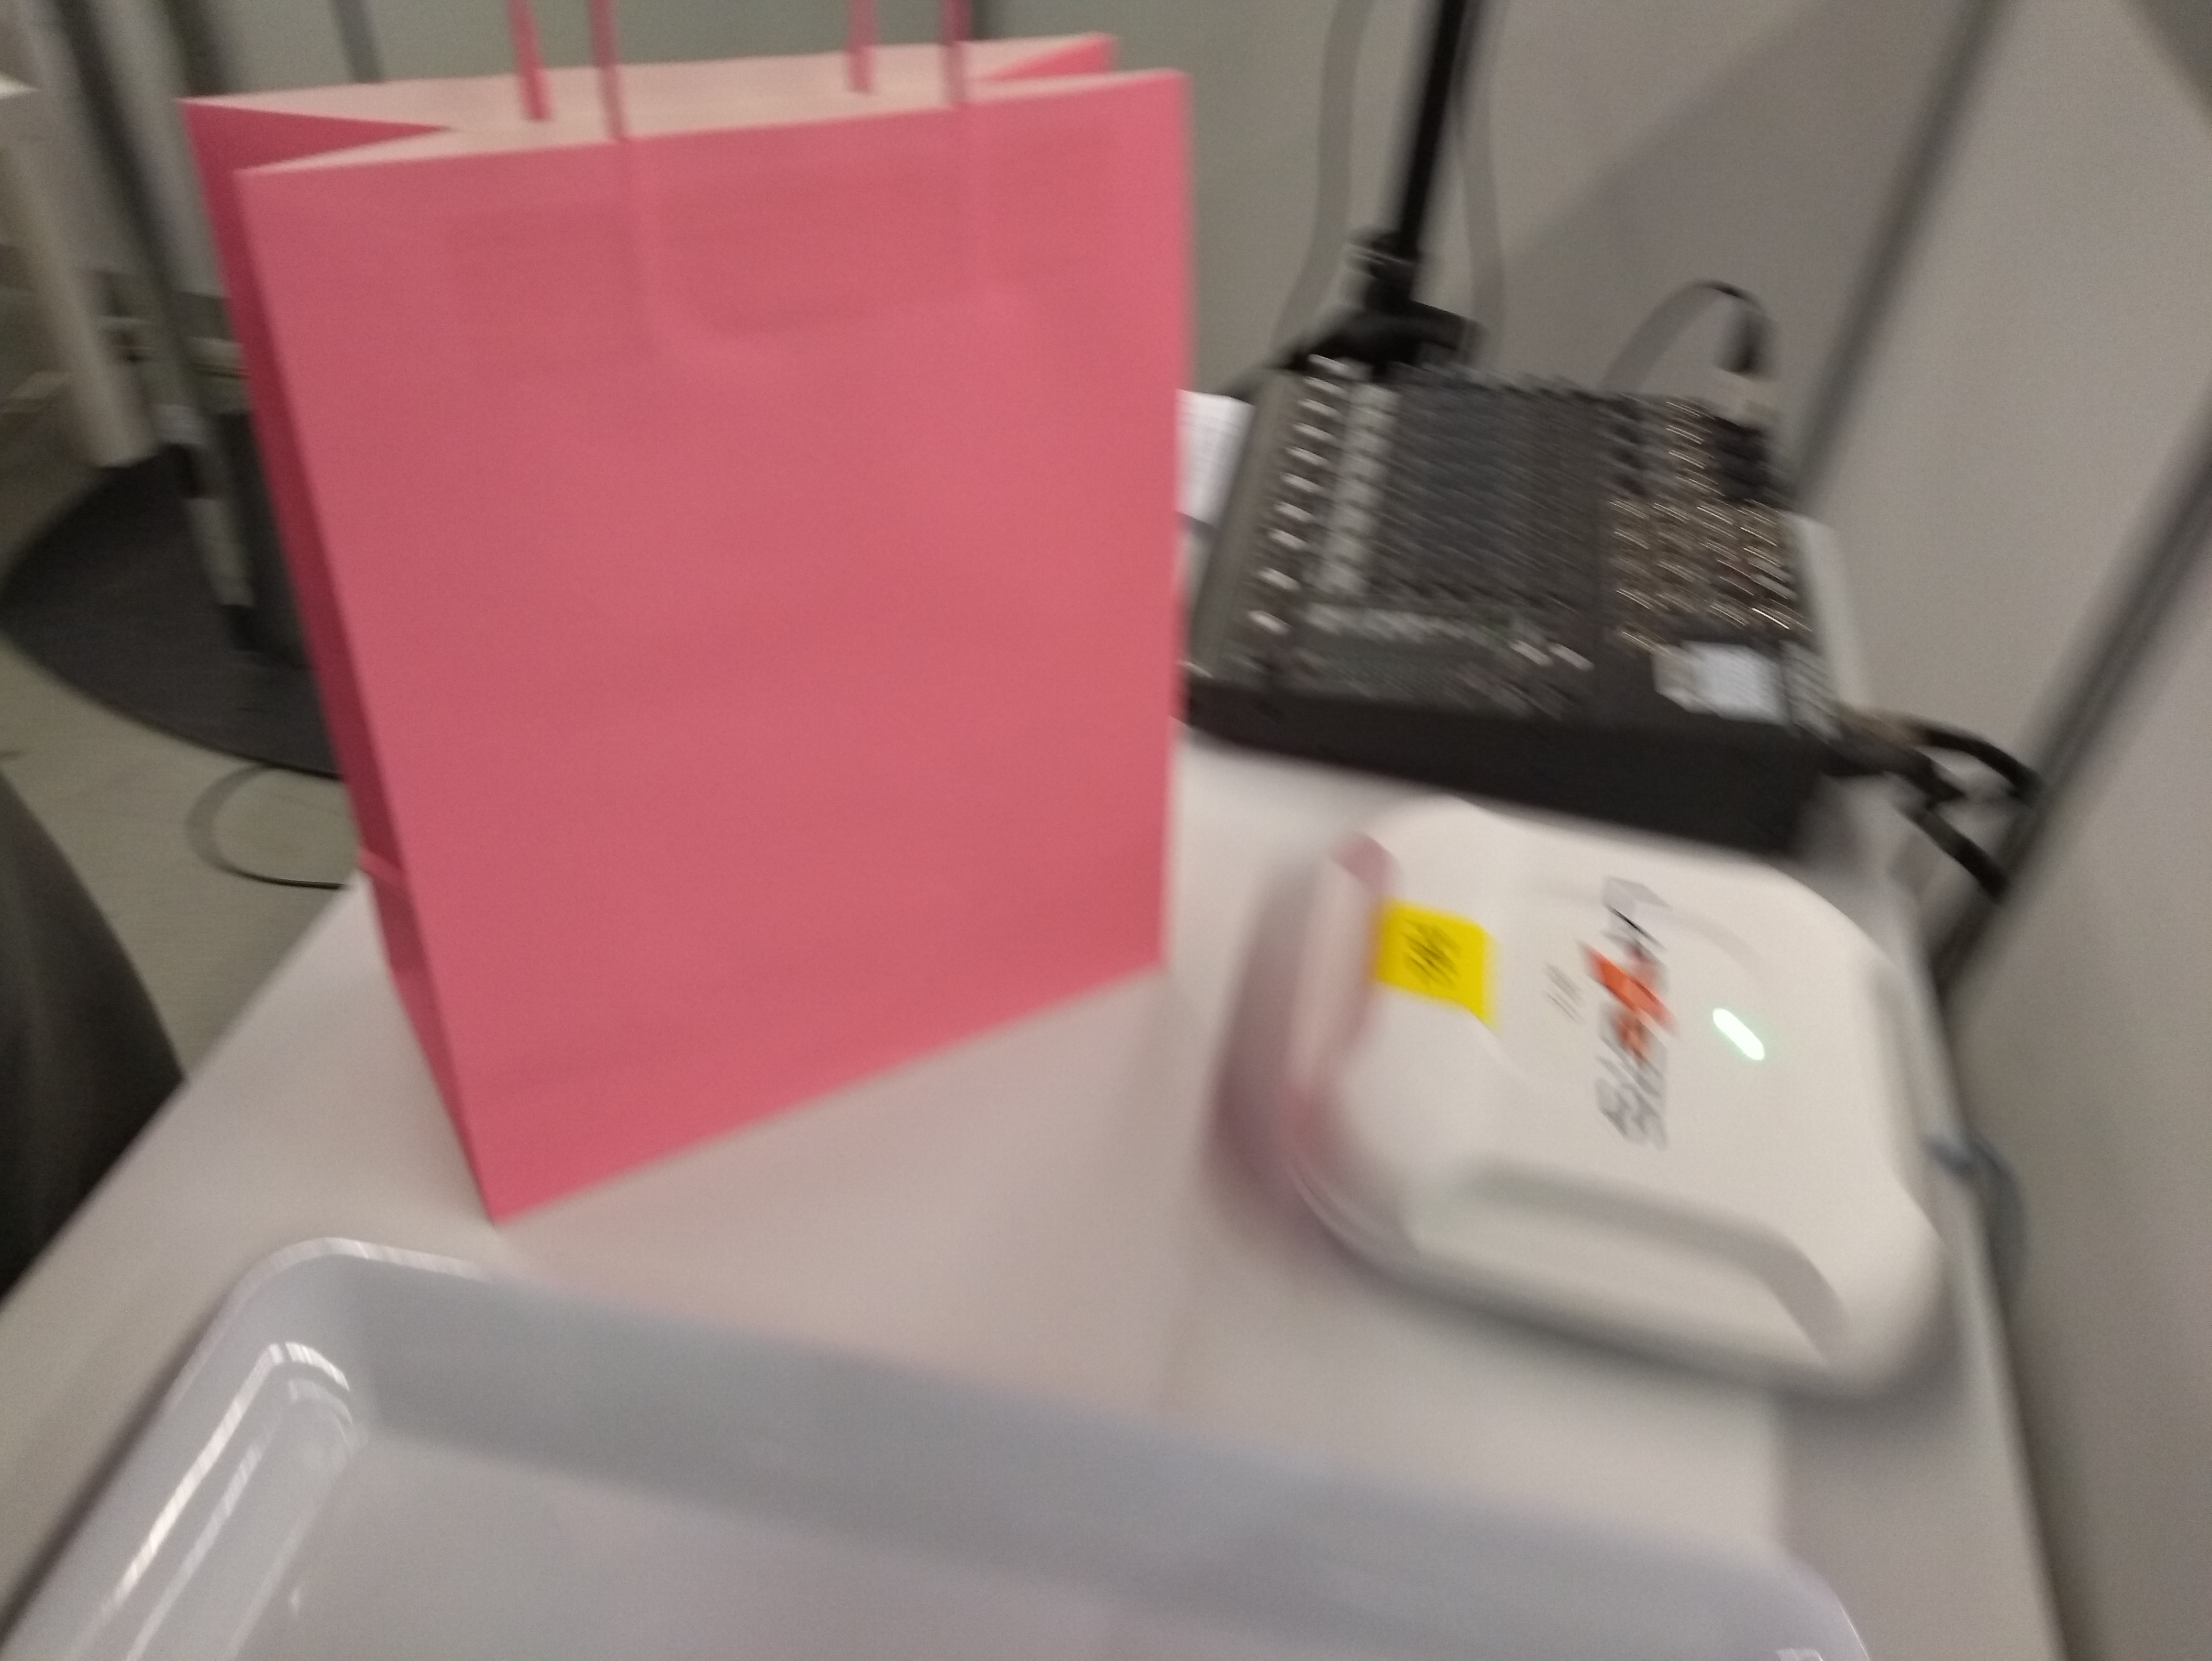help_me_carry_opl: (157, 3, 1205, 1234)
tray: (2, 1225, 1912, 1661)
